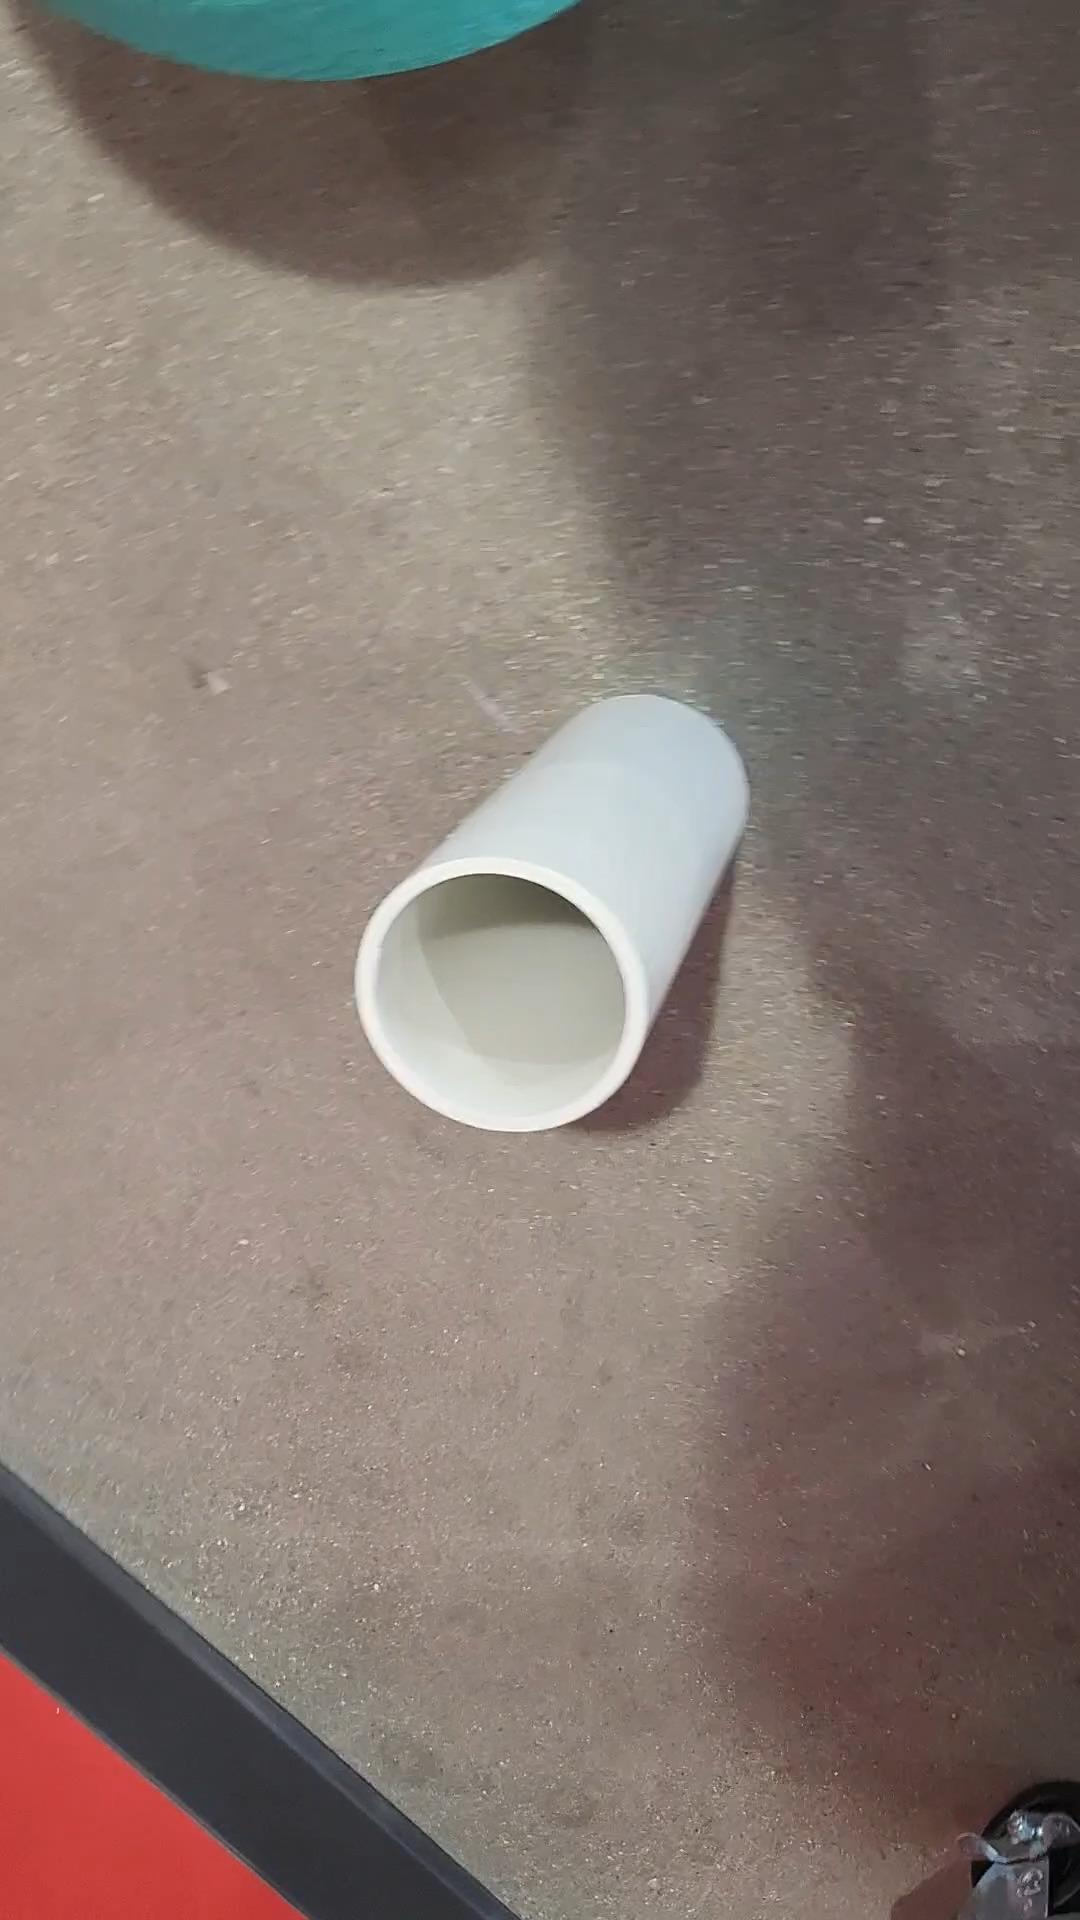algae: (40, 0, 600, 103)
coral: (364, 684, 746, 1137)
